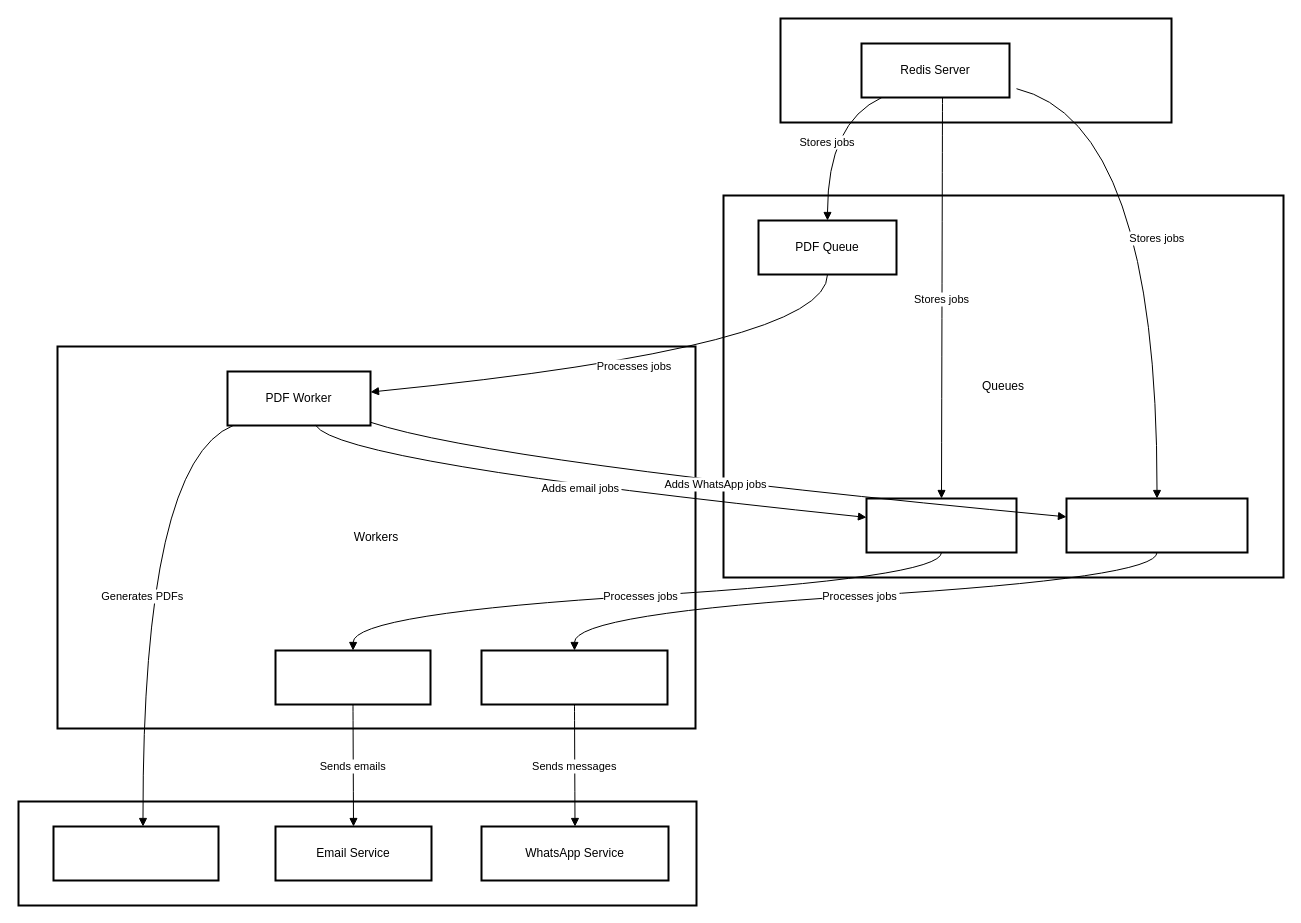
Image size: 1301x923. Some labels were removed from this diagram. The shapes that lost their labels are listed below. From the top down, each one's centre as x and y in pixels, then its label:
At point (941, 525): "Email Queue".
At point (1156, 525): "WhatsApp Queue".
At point (352, 677): "Email Worker".
At point (574, 677): "WhatsApp Worker".
At point (135, 853): "PDF Generator".
